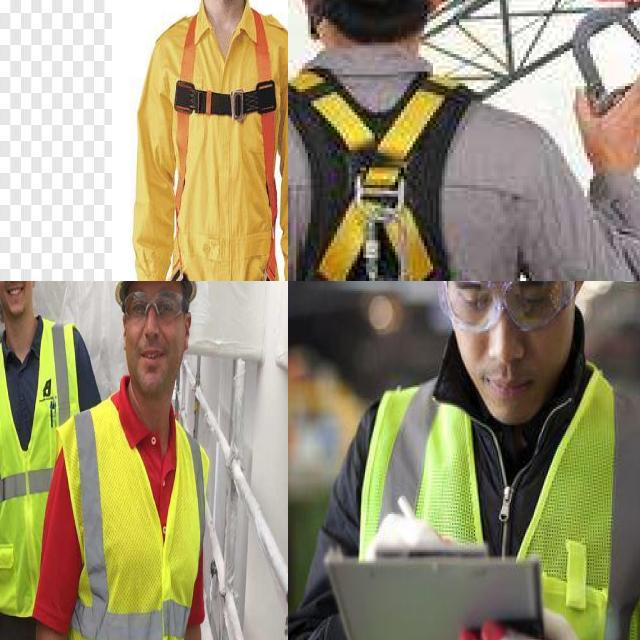Harness: (288, 51, 537, 281), (174, 10, 276, 281)
No_Ear-Protection: (182, 308, 194, 356), (120, 313, 128, 356), (29, 281, 39, 290)
face_nomask: (434, 281, 573, 416), (122, 281, 190, 398), (0, 281, 43, 320)
glasses: (432, 281, 576, 333), (120, 284, 188, 324)
person: (324, 281, 640, 640), (79, 281, 231, 640), (0, 281, 100, 628)
vest: (361, 359, 640, 640), (44, 408, 211, 640), (0, 331, 86, 597)
